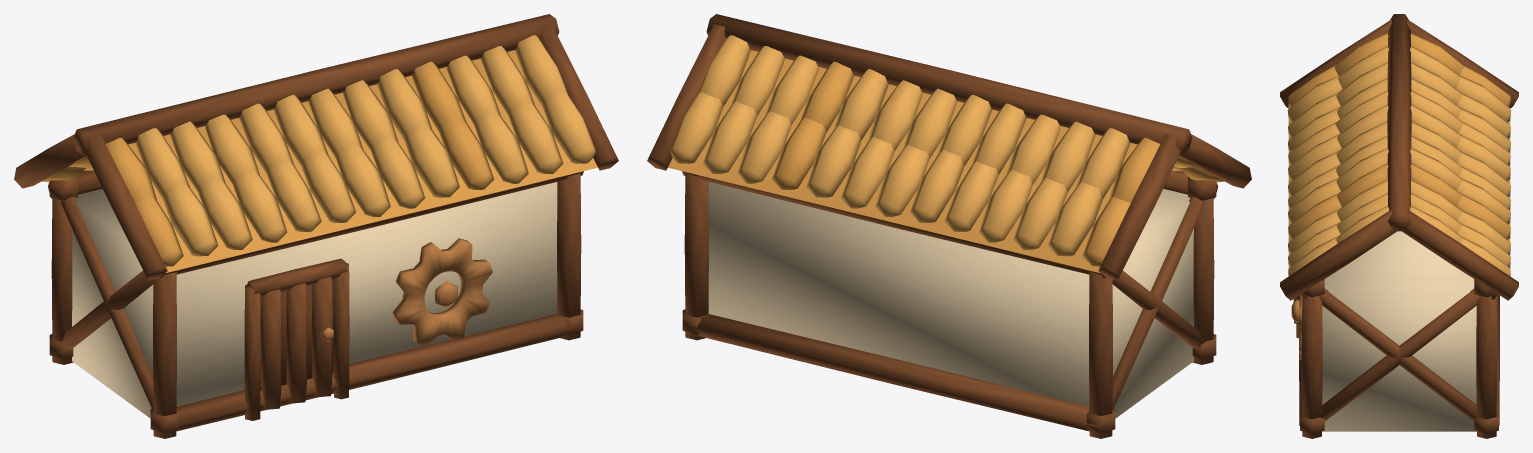
File: workshop_v2.glb
The picture shows the model from 3 angles, left to right: view 1: azimuth 30°, elevation 25°; view 2: azimuth 150°, elevation 25°; view 3: azimuth 270°, elevation 25°; orthographic projection. The views are drawn at different scales.
Parts seen in each view (by area): view 1: WorkshopV2; view 2: WorkshopV2; view 3: WorkshopV2.
Part boxes in pixels (x1=…): WorkshopV2: x1=14, y1=14, x2=618, y2=438; WorkshopV2: x1=647, y1=14, x2=1251, y2=438; WorkshopV2: x1=1280, y1=14, x2=1518, y2=438.
Size of the model in its own units: 6.9 by 3.83 by 3.49.
Materials: 1 (1 with a texture image).
